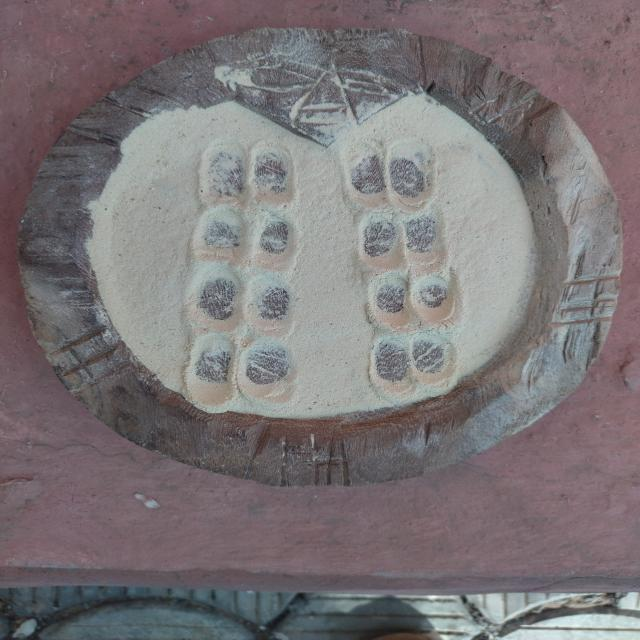double: (185, 336, 299, 408), (338, 136, 439, 210), (190, 270, 298, 335), (192, 206, 300, 268), (200, 143, 296, 206), (351, 207, 448, 269), (372, 326, 459, 392), (366, 268, 458, 328)
